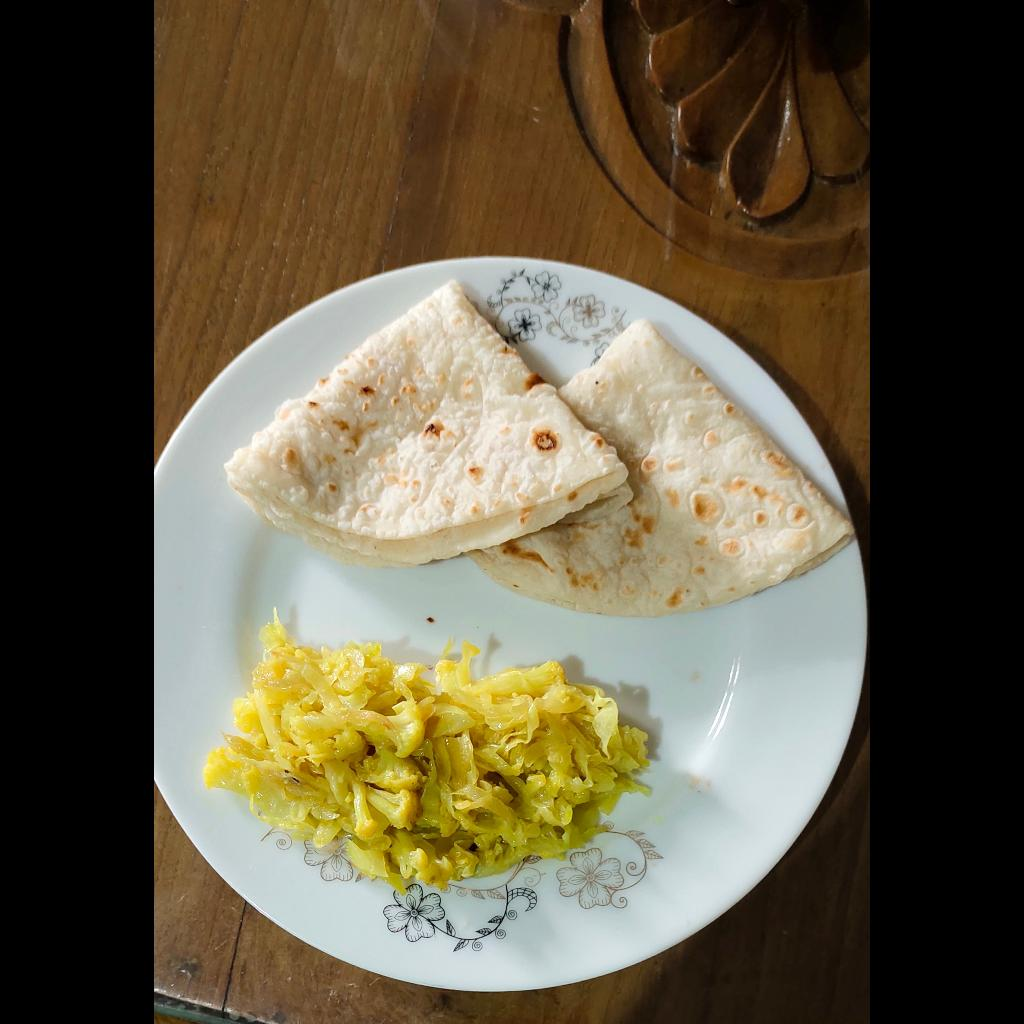cabbage: (322, 636, 654, 889)
cauliflower: (192, 626, 431, 842)
ruti: (217, 271, 858, 618)
